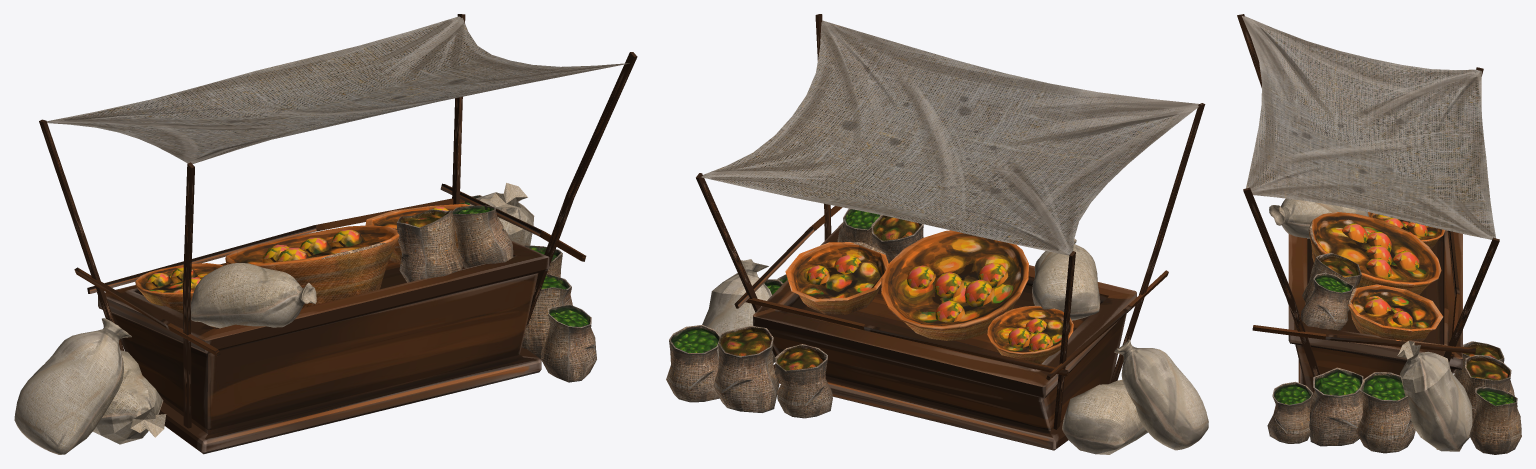
Rendered from fruitsatnd.fbx.
3 renders of one model, left to right at view 1: azimuth 30°, elevation 25°; view 2: azimuth 150°, elevation 25°; view 3: azimuth 270°, elevation 25°, orthographic. The views are drawn at different scales.
Visible parts, largest first — view 1: fruitstand001, Plane001, sac002, basket, sac003, Cylinder009, sac001, Cylinder005, Cylinder010, Box005, Box004, Box009 (+8 smaller); view 2: Plane001, fruitstand001, basket, sac002, basket001, Cylinder007, sac001, sac003, Cylinder008, Cylinder011, basket002, sac (+12 smaller); view 3: Plane001, fruitstand001, sac, basket, Cylinder004, Cylinder006, basket001, Cylinder011, Cylinder005, Cylinder010, sac003, Cylinder007 (+14 smaller).
Boxes of the visible parts, left/top/right/bottom form: fruitstand001: left=98, top=240, right=549, bottom=454; Plane001: left=47, top=16, right=629, bottom=163; sac002: left=14, top=318, right=131, bottom=454; basket: left=225, top=225, right=399, bottom=308; sac003: left=191, top=263, right=316, bottom=328; Cylinder009: left=396, top=209, right=464, bottom=282; sac001: left=93, top=350, right=166, bottom=444; Cylinder005: left=541, top=304, right=596, bottom=382; Cylinder010: left=452, top=205, right=513, bottom=268; Box005: left=526, top=52, right=637, bottom=327; Box004: left=183, top=162, right=194, bottom=428; Box009: left=87, top=198, right=464, bottom=293; Plane001: left=701, top=20, right=1201, bottom=255; fruitstand001: left=753, top=222, right=1136, bottom=450; basket: left=881, top=230, right=1028, bottom=340; sac002: left=1114, top=339, right=1208, bottom=450; basket001: left=785, top=242, right=888, bottom=314; Cylinder007: left=713, top=325, right=779, bottom=412; sac001: left=1062, top=380, right=1147, bottom=454; sac003: left=1032, top=238, right=1100, bottom=320; Cylinder008: left=775, top=344, right=832, bottom=418; Cylinder011: left=666, top=325, right=719, bottom=402; basket002: left=987, top=305, right=1073, bottom=366; sac: left=702, top=259, right=771, bottom=359; Plane001: left=1242, top=16, right=1495, bottom=239; fruitstand001: left=1288, top=230, right=1462, bottom=394; sac: left=1397, top=341, right=1472, bottom=451; basket: left=1308, top=212, right=1441, bottom=294; Cylinder004: left=1356, top=372, right=1415, bottom=453; Cylinder006: left=1309, top=367, right=1363, bottom=446; basket001: left=1348, top=284, right=1443, bottom=341; Cylinder011: left=1469, top=386, right=1521, bottom=454; Cylinder005: left=1267, top=381, right=1313, bottom=443; Cylinder010: left=1301, top=272, right=1353, bottom=330; sac003: left=1269, top=198, right=1369, bottom=238; Cylinder007: left=1465, top=355, right=1517, bottom=420.
Bounding box in the file's own units: 87.48 × 51.17 × 49.23.
7 materials, 7 textured.
